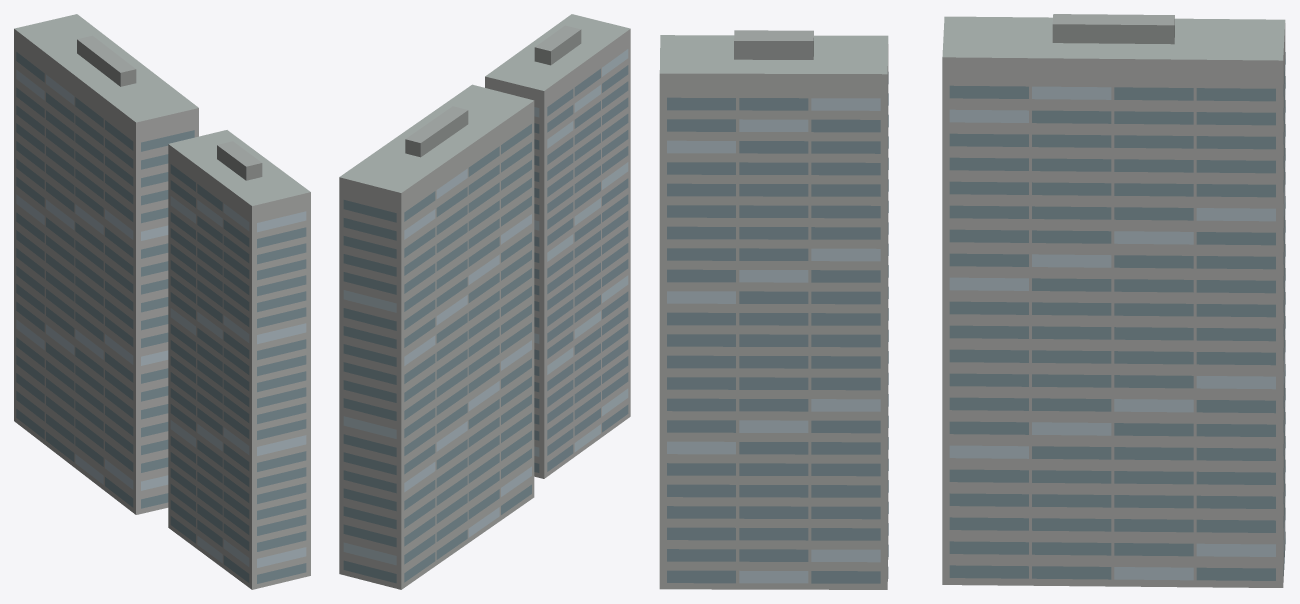
Rendered from apt-a13302204.glb.
3 renders of one model, left to right at view 1: azimuth 30°, elevation 25°; view 2: azimuth 150°, elevation 25°; view 3: azimuth 270°, elevation 25°, orthographic. The views are drawn at different scales.
Parts seen in each view (by area): view 1: apt-a13302204; view 2: apt-a13302204; view 3: apt-a13302204.
Boxes of the visible parts, x1,y1,x2,y2 form: apt-a13302204: (14,14,310,589); apt-a13302204: (339,14,630,589); apt-a13302204: (659,14,1285,589).
Bounding box in the file's own units: 12.57 × 69.5 × 72.17.
